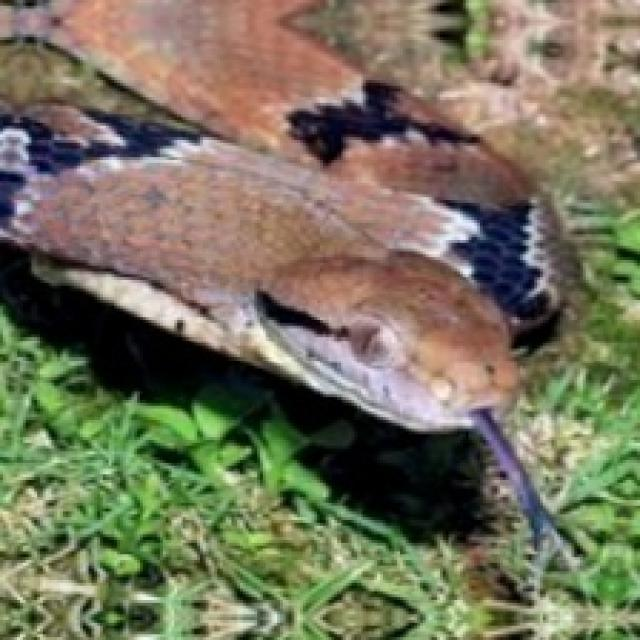dog-toothed cat snake: (0, 0, 577, 597)
